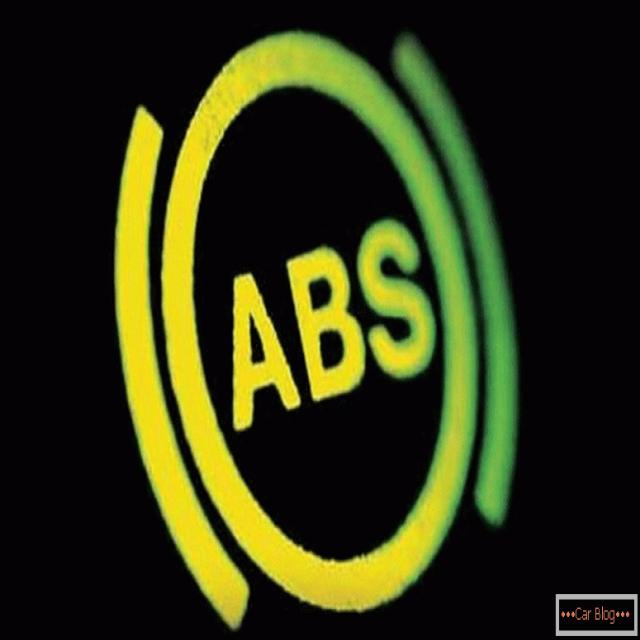kontrolka: (93, 16, 536, 632)
